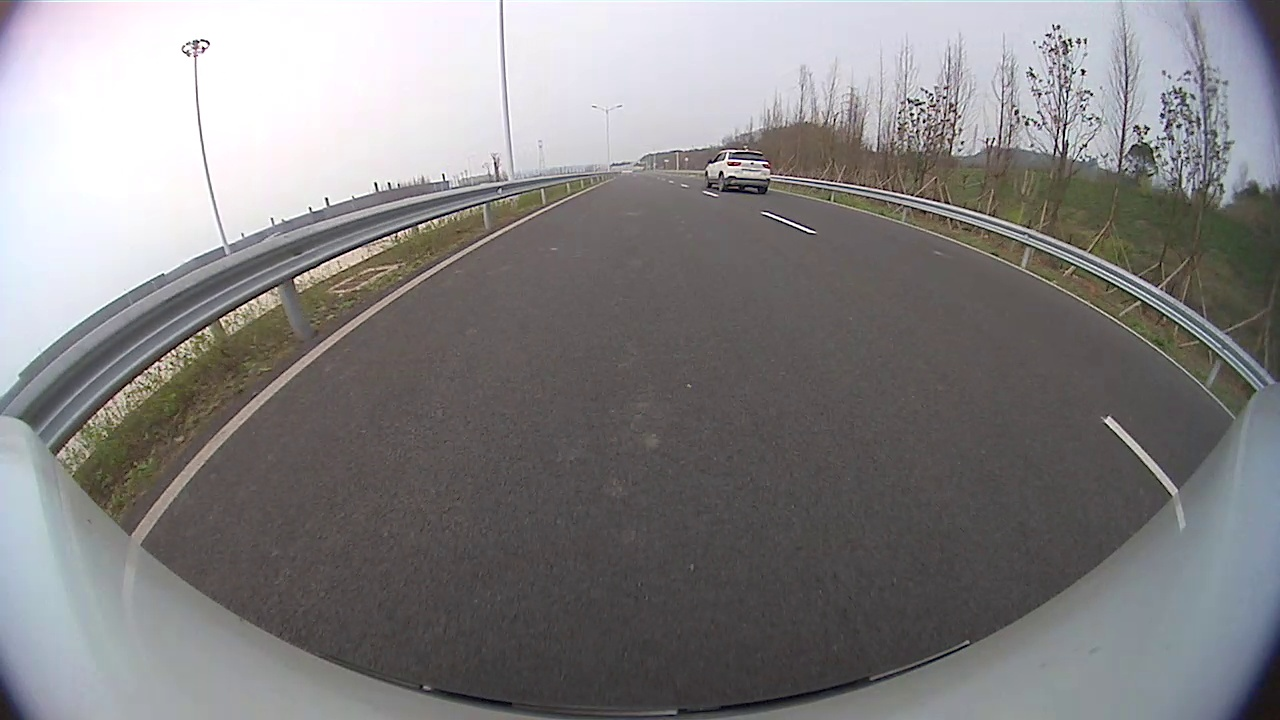car: (703, 149, 771, 193)
rear: (718, 175, 726, 192)
